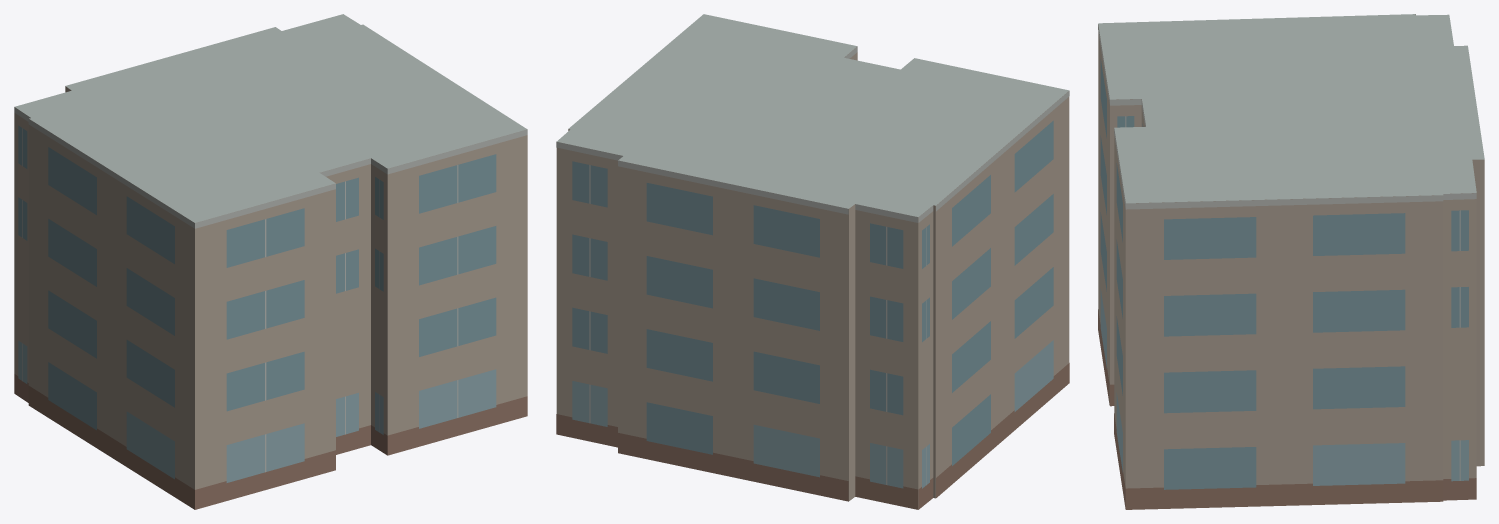
The model's file is survey-upis-32723363.glb.
3 views of the same model, side by side, from view 1: azimuth 30°, elevation 25°; view 2: azimuth 150°, elevation 25°; view 3: azimuth 270°, elevation 25° (orthographic). The views are drawn at different scales.
Parts seen in each view (by area): view 1: survey-upis-32723363.tmp; view 2: survey-upis-32723363.tmp; view 3: survey-upis-32723363.tmp.
Part boxes in pixels (bbox=[...]): survey-upis-32723363.tmp: bbox=[14, 14, 527, 509]; survey-upis-32723363.tmp: bbox=[556, 14, 1069, 509]; survey-upis-32723363.tmp: bbox=[1098, 14, 1484, 509].
Size of the model in its own units: 16.18 by 12.2 by 13.96.
